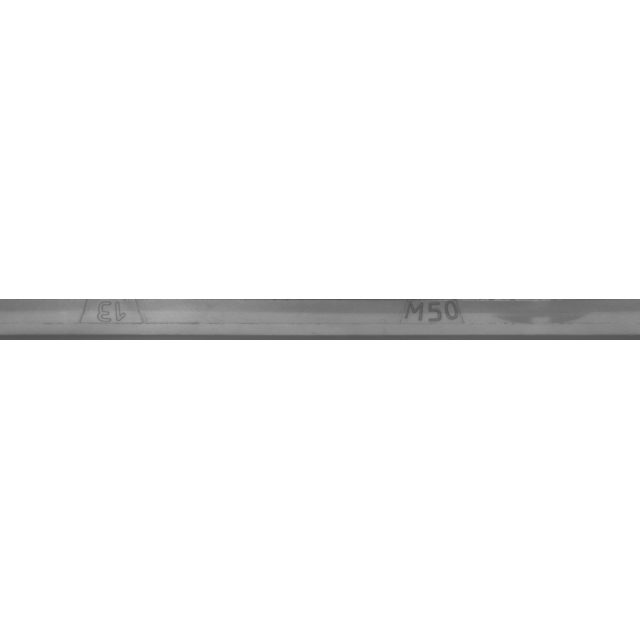mohao: (345, 270, 545, 370)
xuehao: (20, 270, 220, 370)
